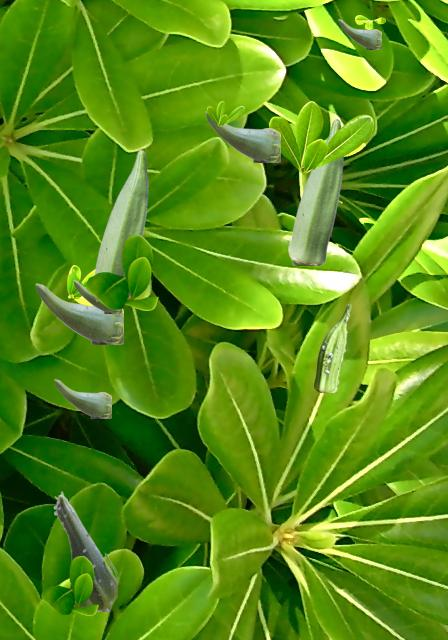okra: (94, 149, 147, 300), (288, 119, 342, 264), (53, 491, 116, 610), (35, 283, 122, 343), (205, 111, 279, 161), (314, 304, 350, 391), (54, 379, 110, 417), (73, 280, 120, 312), (338, 19, 380, 48)
